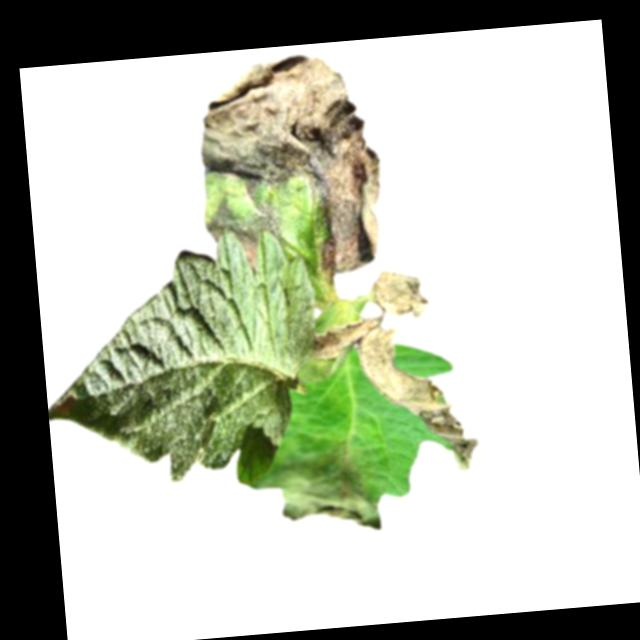Late_blight: (188, 46, 390, 288), (307, 305, 483, 483), (250, 444, 383, 540), (361, 265, 430, 324), (312, 276, 360, 318)
healthy: (36, 224, 328, 493)
